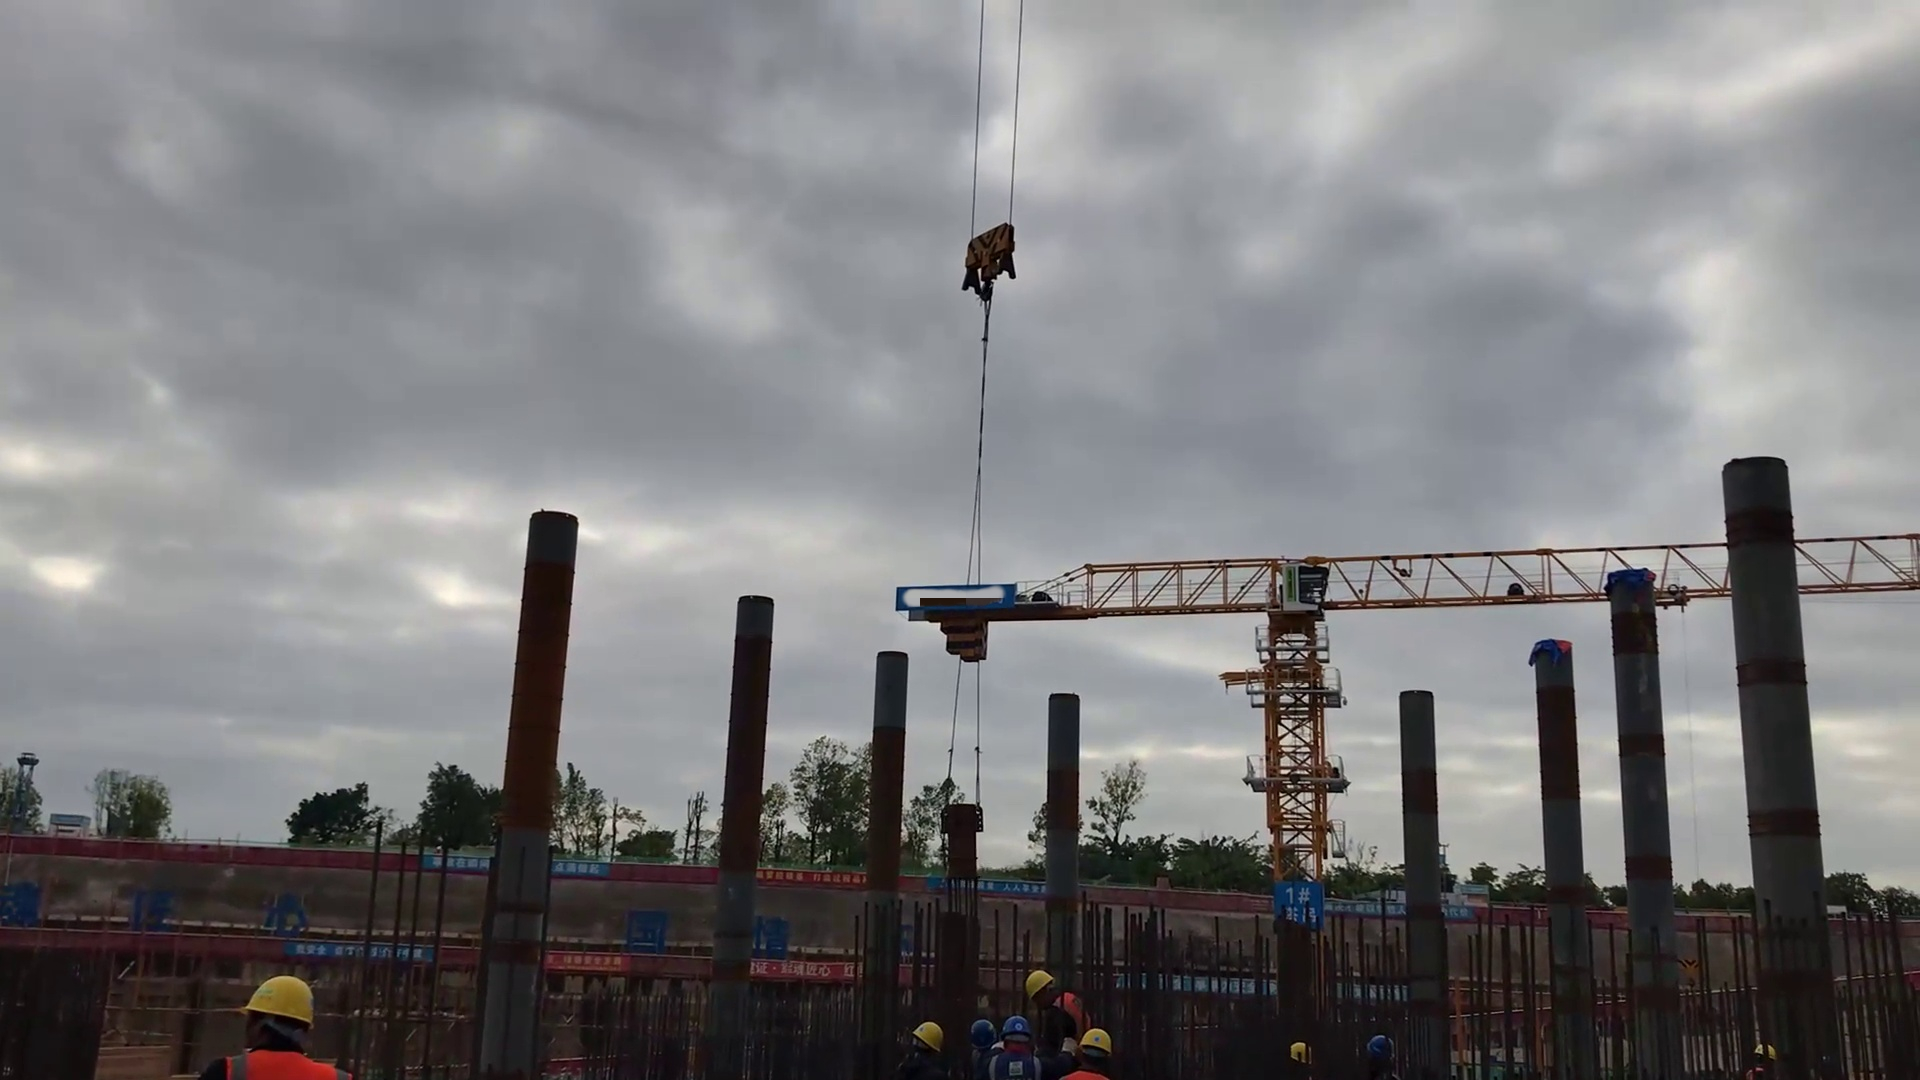helmet: (248, 967, 321, 1046), (1081, 1025, 1130, 1063), (1024, 967, 1063, 1003), (913, 1016, 941, 1047), (1005, 1017, 1032, 1043), (1364, 1036, 1398, 1058), (969, 1020, 994, 1042), (1288, 1044, 1315, 1064), (1750, 1048, 1776, 1067)
person: (199, 983, 365, 1080), (1026, 964, 1088, 1041), (901, 1021, 948, 1080), (994, 1012, 1034, 1080), (1279, 1034, 1333, 1079), (1361, 1026, 1406, 1080), (1071, 1026, 1113, 1080), (971, 1021, 1000, 1080), (1740, 1048, 1774, 1080)
vest: (223, 1044, 318, 1080), (1057, 996, 1088, 1031), (997, 1057, 1034, 1080), (910, 1054, 939, 1073), (972, 1048, 989, 1072), (1059, 1071, 1102, 1080), (1751, 1067, 1770, 1080)
